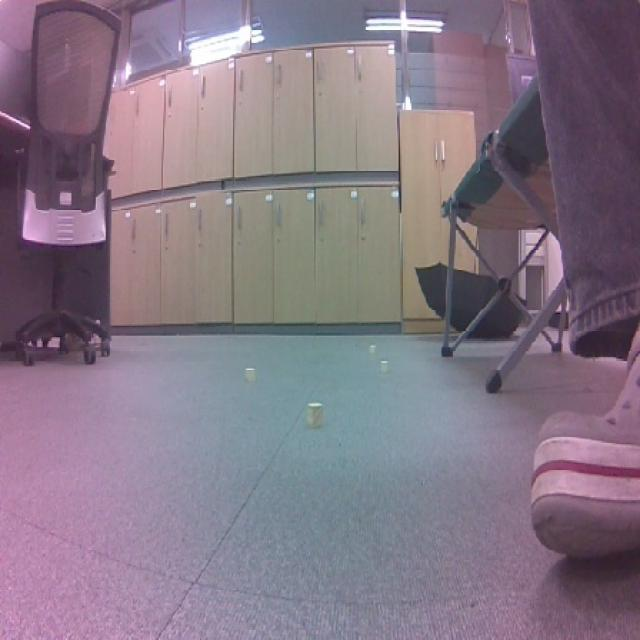obstacle: (299, 398, 329, 432), (241, 363, 259, 386), (376, 356, 394, 377)
